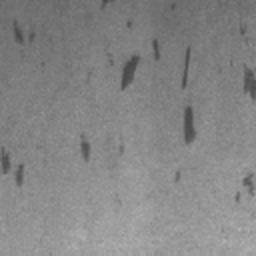Red iron sheet: (121, 38, 161, 91), (0, 148, 24, 187), (184, 105, 196, 145), (181, 46, 191, 89), (244, 68, 256, 99), (80, 133, 91, 162), (243, 172, 255, 196), (13, 20, 24, 44), (174, 169, 181, 183), (239, 25, 247, 36)
